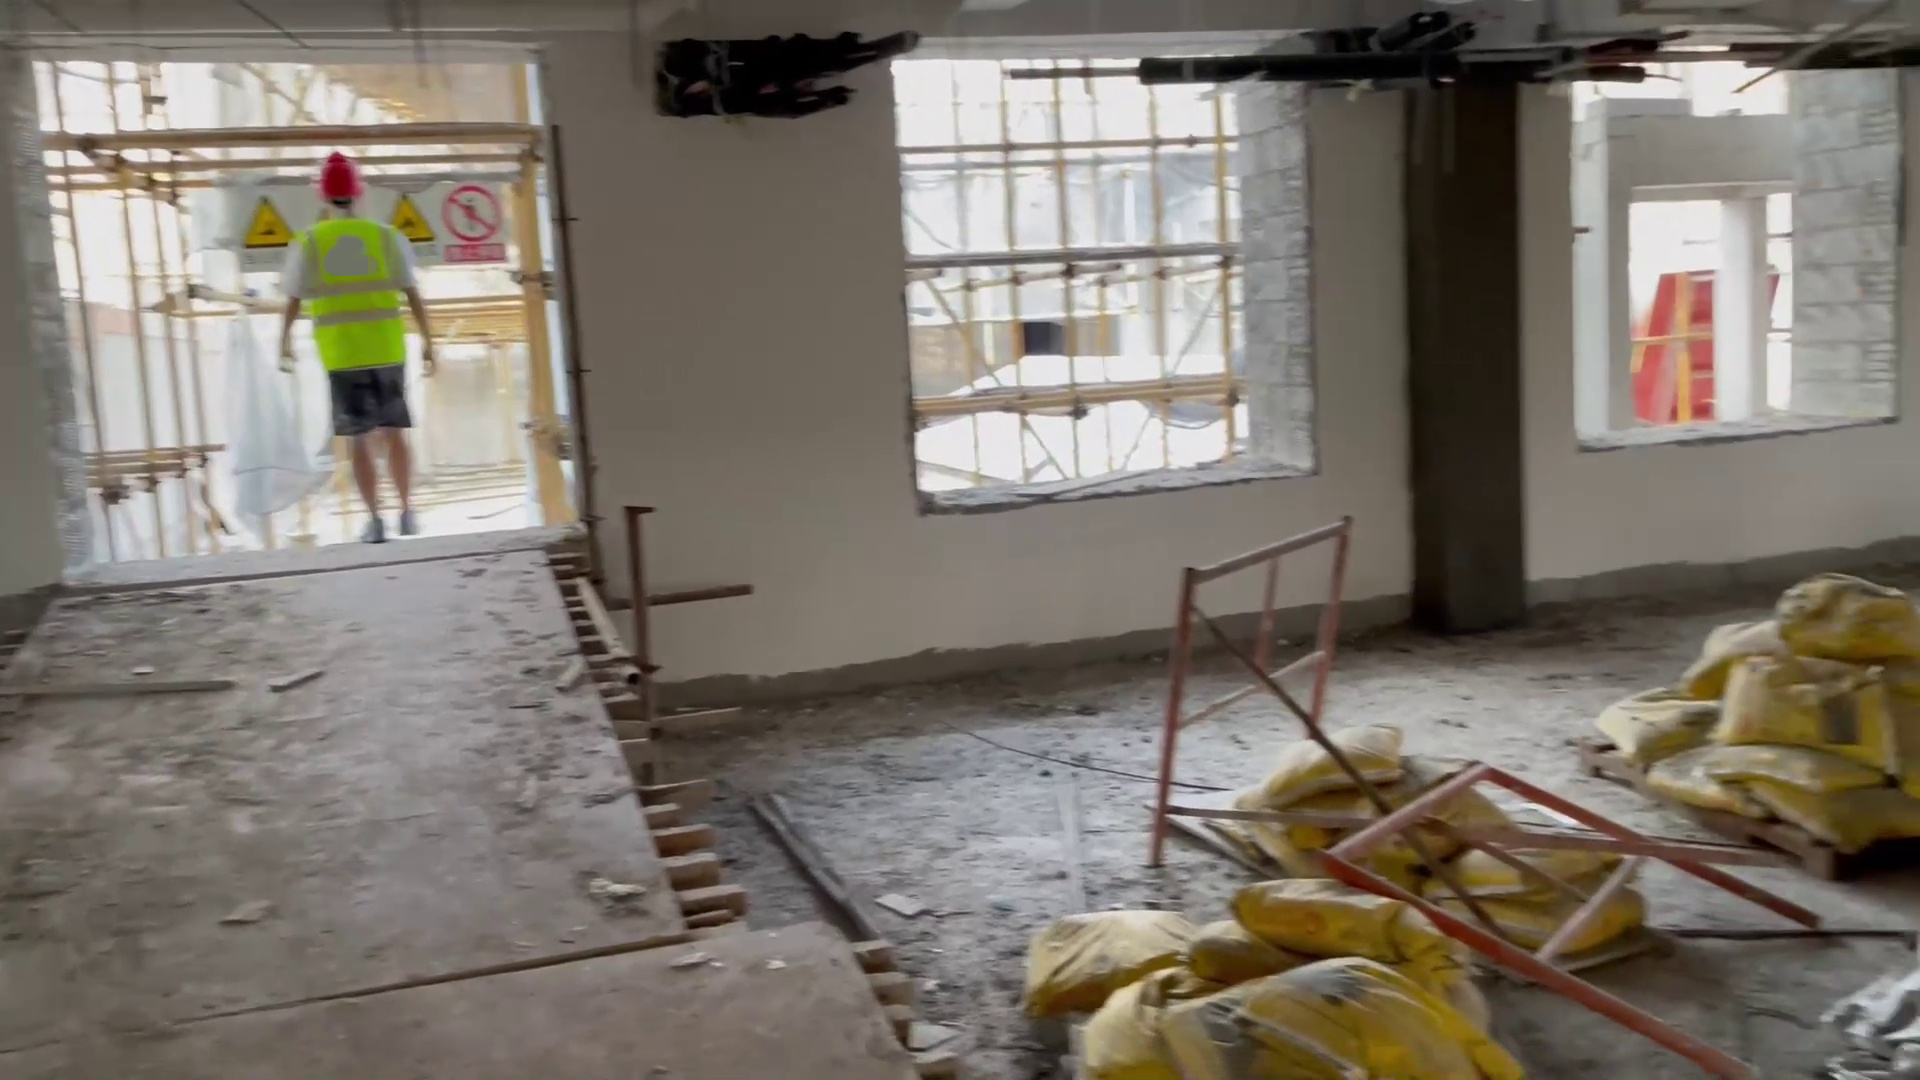helmet: (313, 155, 367, 199)
person: (281, 158, 443, 539)
vest: (294, 218, 426, 373)
